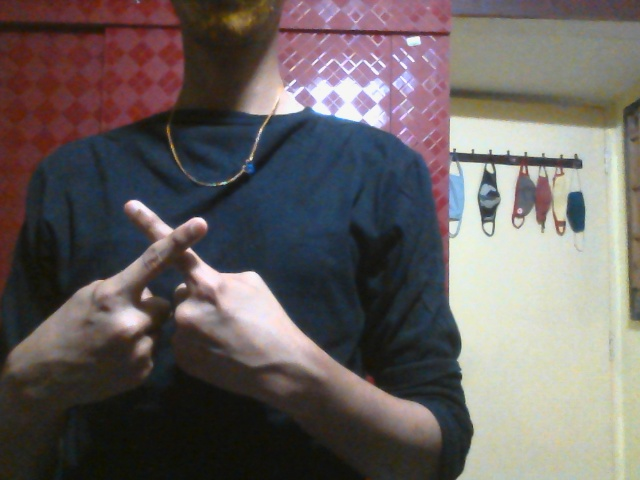X: (53, 200, 286, 398)
